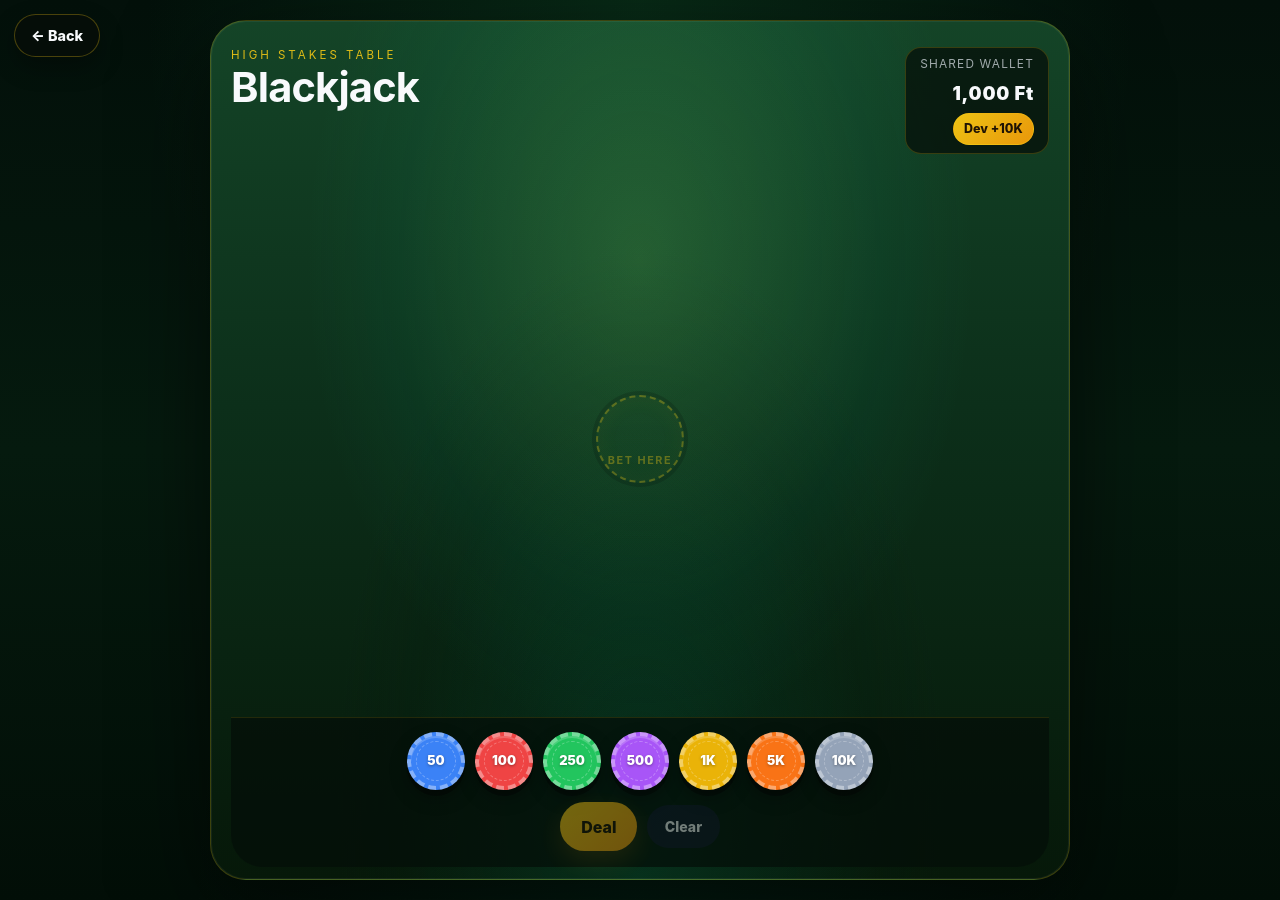
blackjack game shell › reveals the dealer hole card before drawing and settles after the delay
Click the button "500" at (640, 761), box [611,732,669,790]
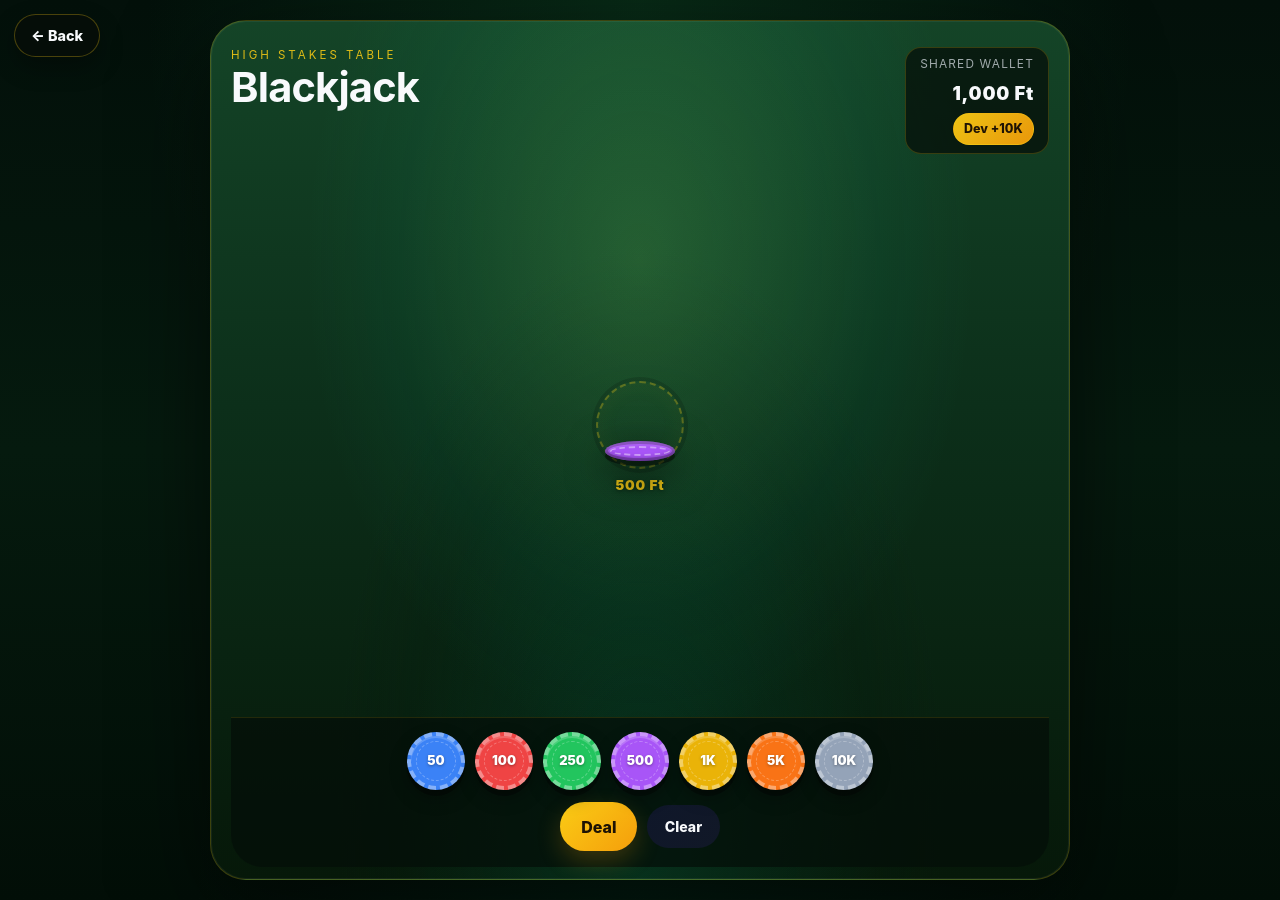
Click the button "Deal" at (599, 827), box [560,802,637,851]
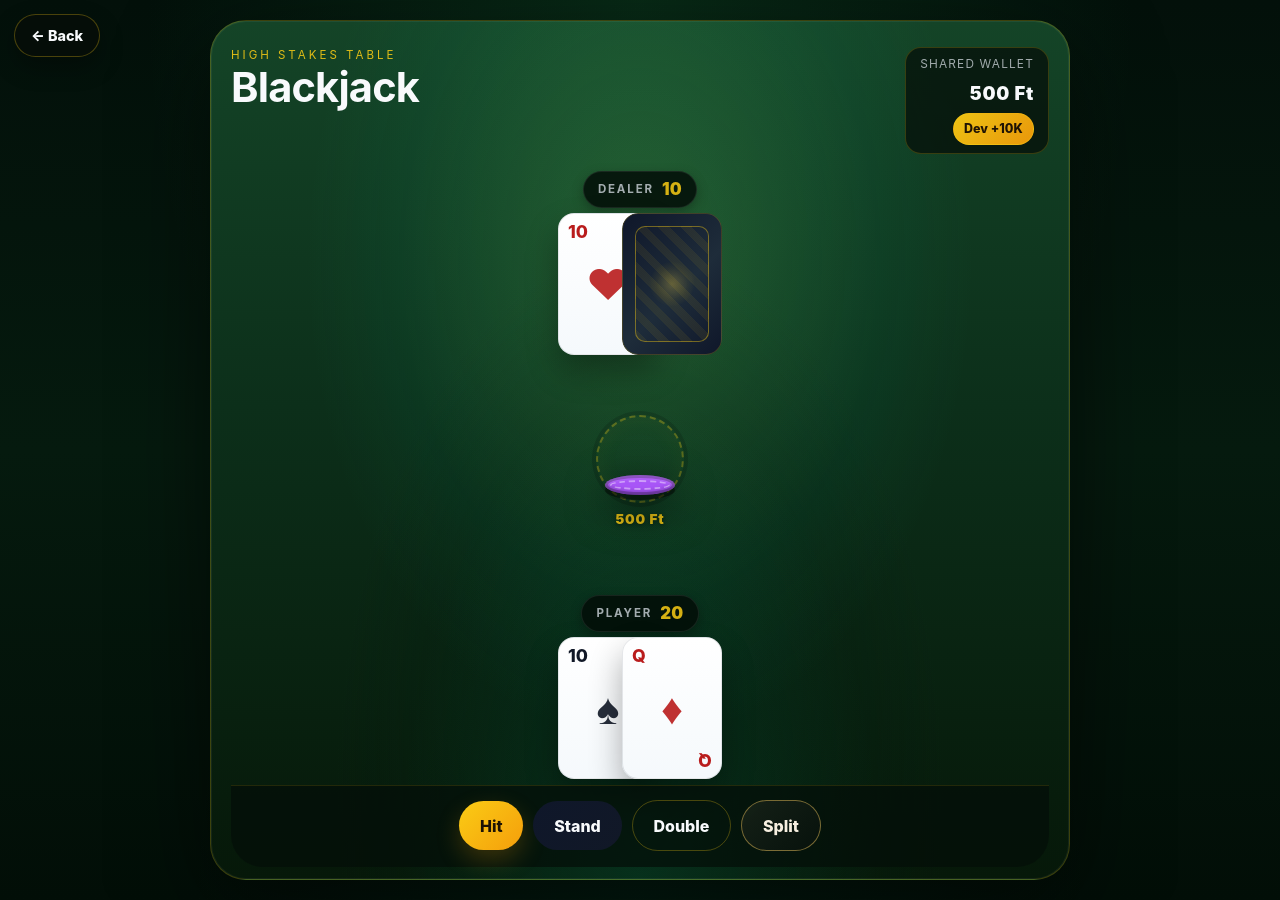
Check: the element named "Hidden card" is shown, box [622,214,722,356]
Click the button "Stand" at (578, 826), box [534,801,622,850]
Wait 2200 ms
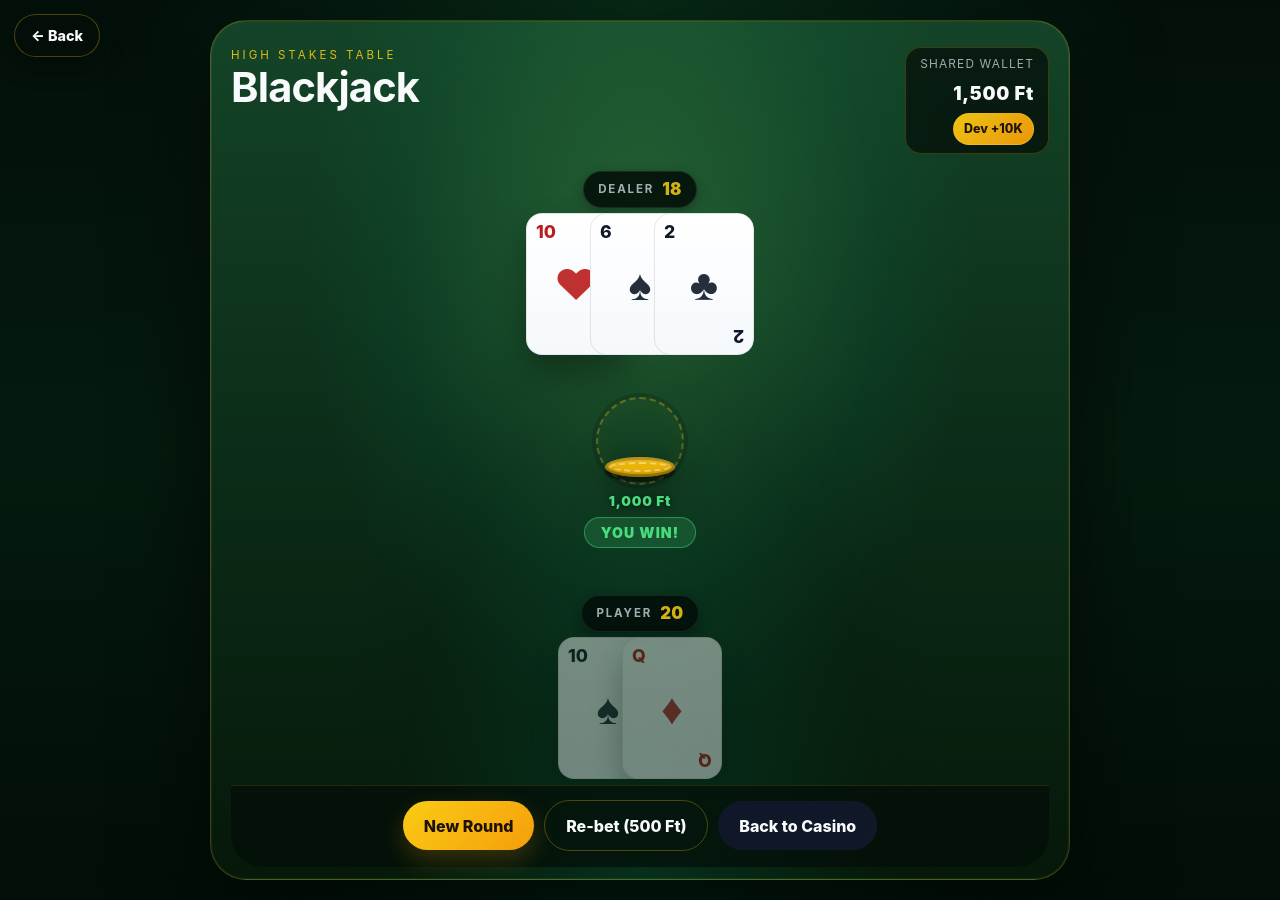
Check: the text "You win!" is shown, box [584,517,696,548]
Check: the text "1,500 Ft" is shown, box [953,80,1034,107]
